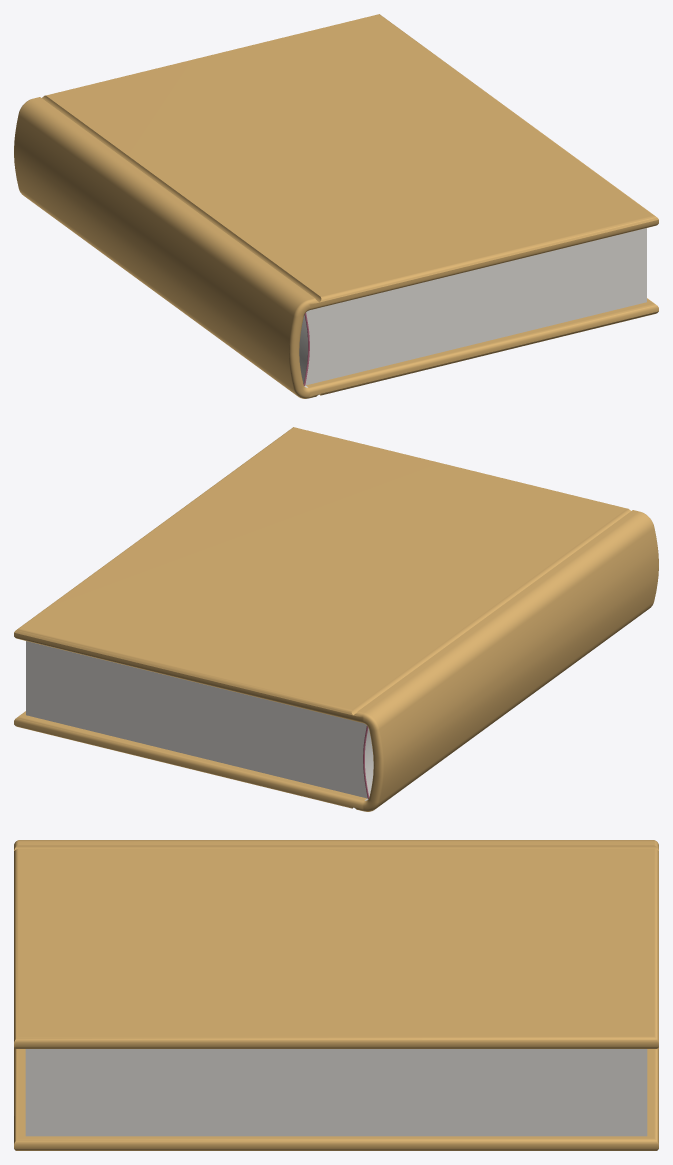
The picture shows the model from 3 angles, top to bottom: view 1: azimuth 30°, elevation 25°; view 2: azimuth 150°, elevation 25°; view 3: azimuth 270°, elevation 25°; orthographic projection. The views are drawn at different scales.
Visible parts, largest first — view 1: Geode; view 2: Geode; view 3: Geode.
Part boxes in pixels (x1,y1,x2,y2): Geode: [14, 14, 658, 398]; Geode: [14, 427, 658, 811]; Geode: [14, 840, 658, 1150].
Size of the model in its own units: 0.1668 by 0.0428 by 0.2188.
Materials: 1 (1 with a texture image).
